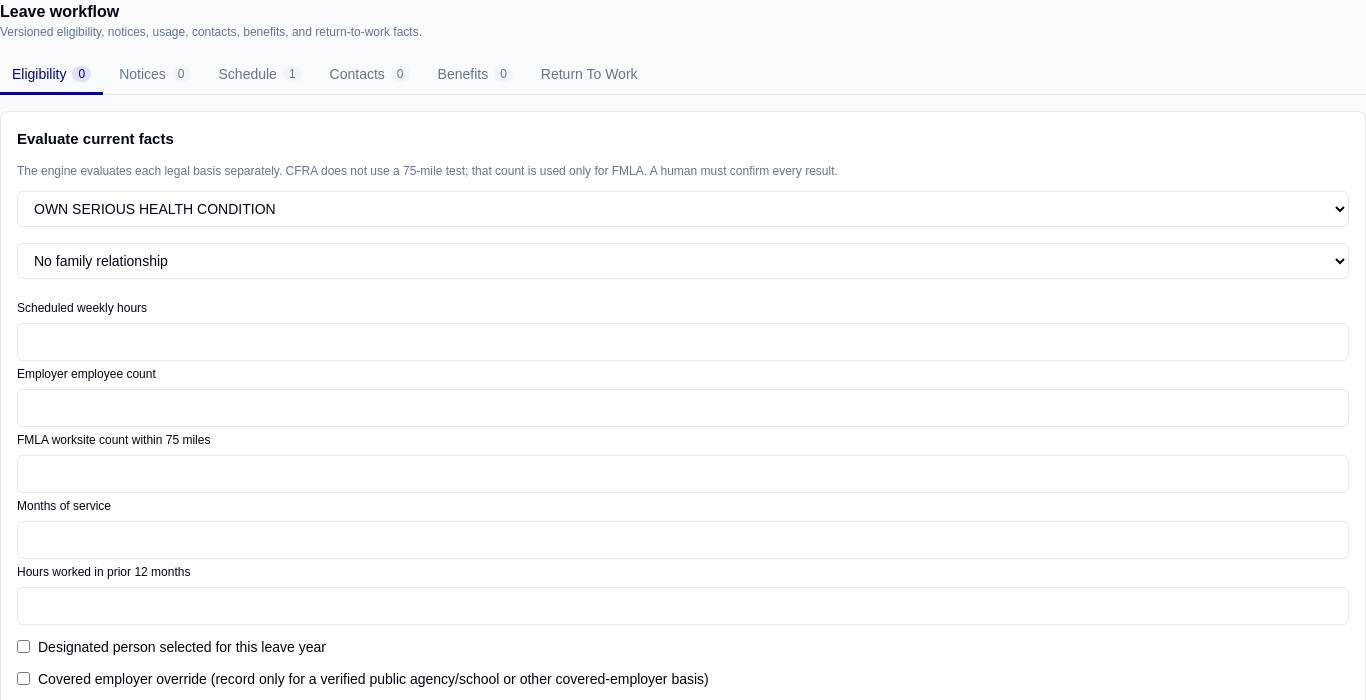
Test case: Schedule tab › shows a status server refusal and keeps the typed actual hours
Click the tab "Schedule 1".
click(260, 76)  # box x1=206 y1=56 x2=314 y2=95
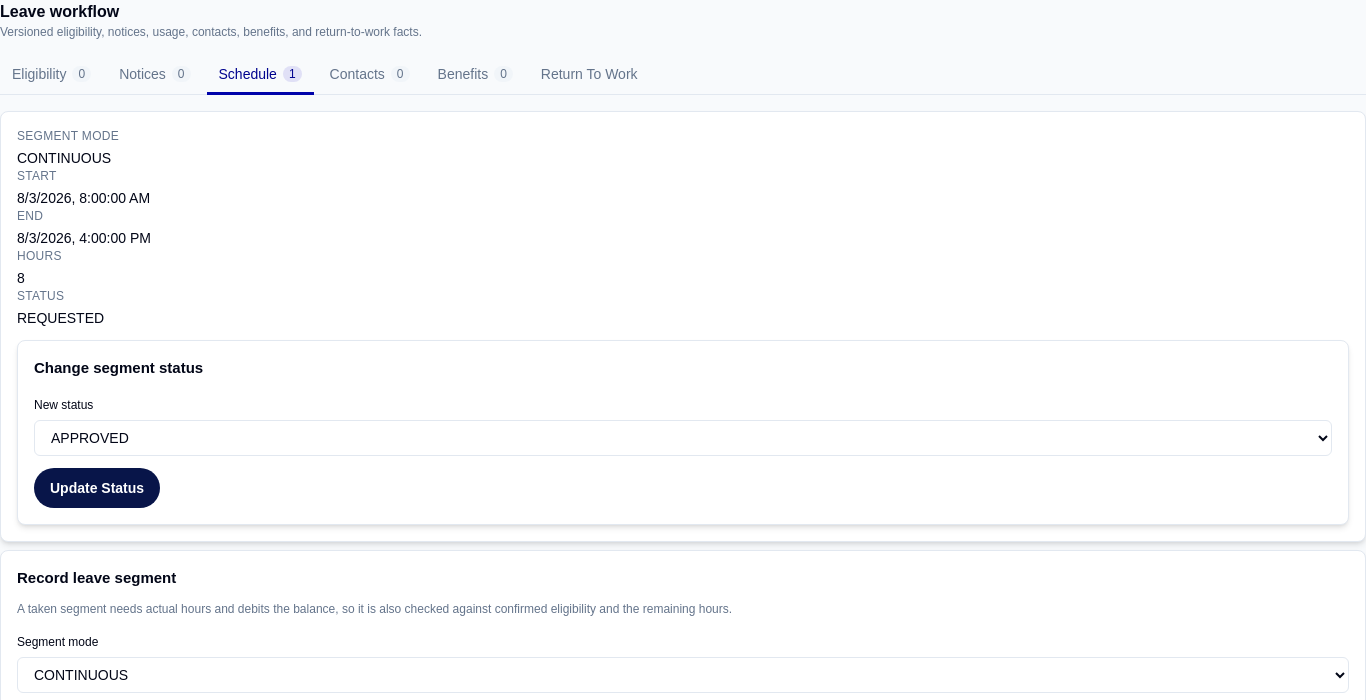
Select "TAKEN" in the dropdown labelled "New status" at {"x": 683, "y": 438}, box x1=34 y1=420 x2=1332 y2=456
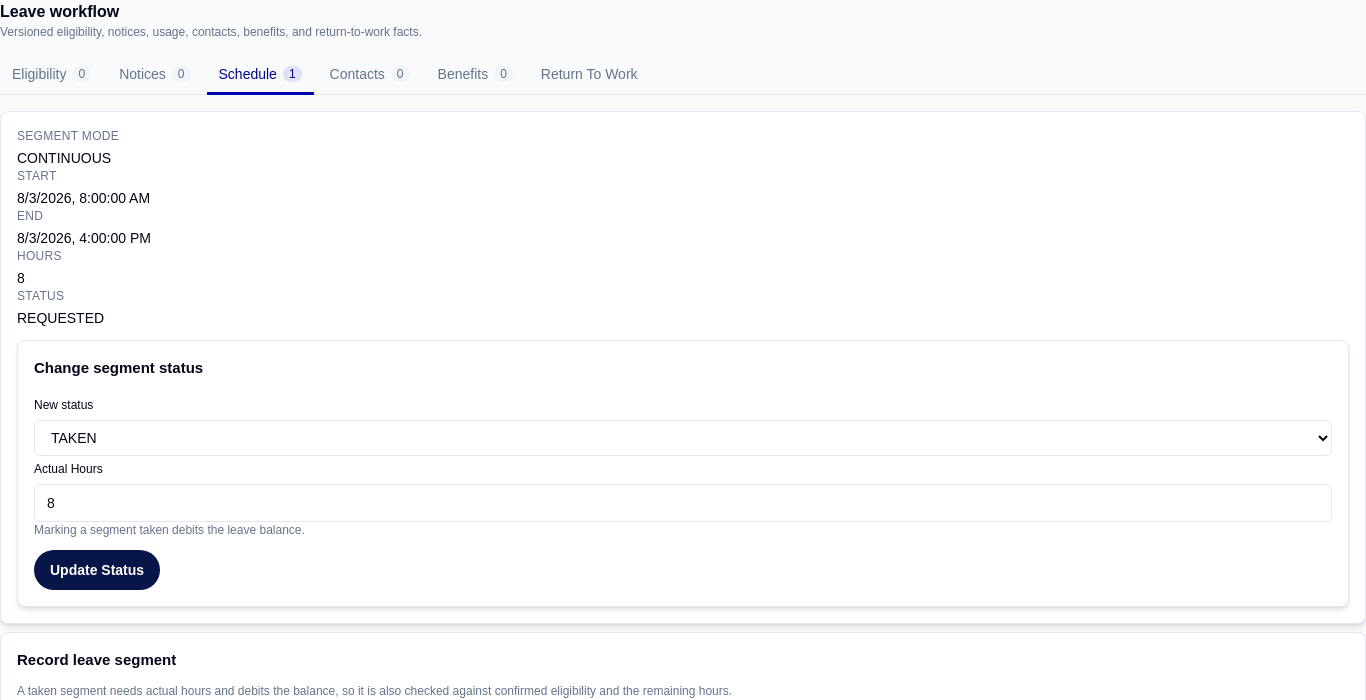
Replace the text in the number field labelled "Actual Hours" with "40" at {"x": 683, "y": 502}, box x1=34 y1=484 x2=1332 y2=522
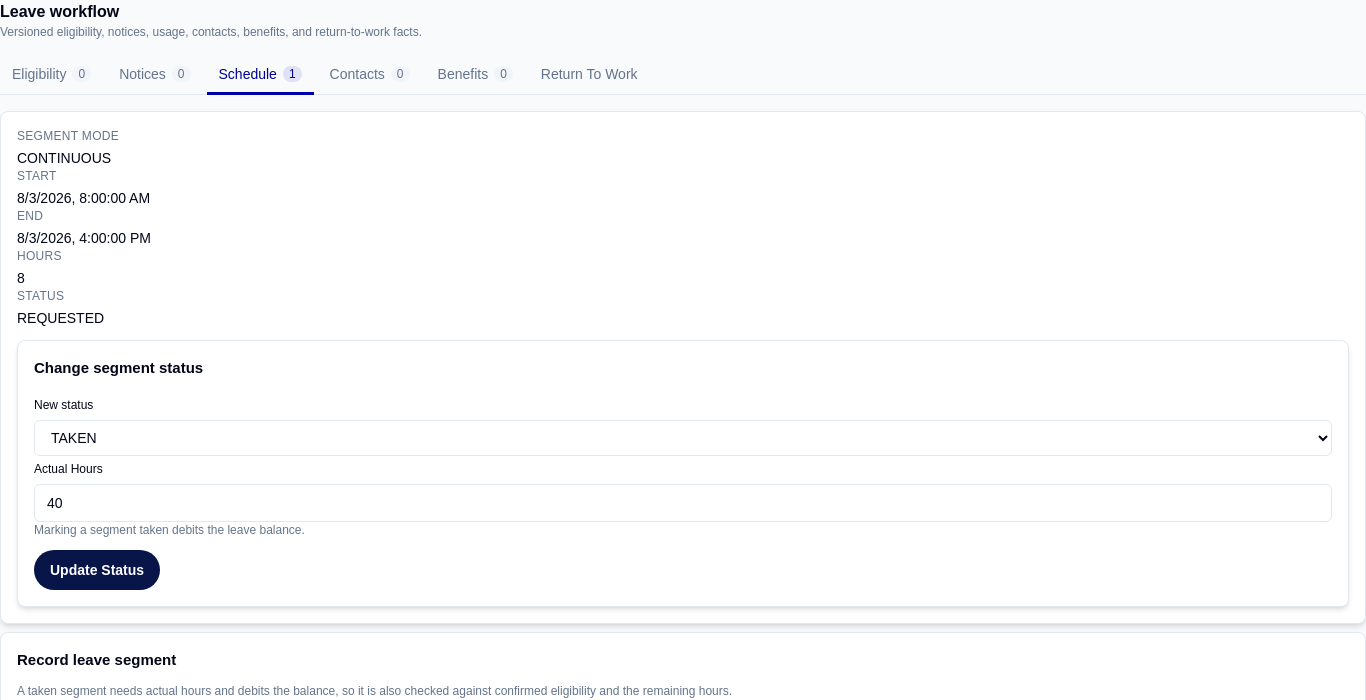
Click the button "Update Status".
click(97, 570)  # box x1=34 y1=550 x2=160 y2=590
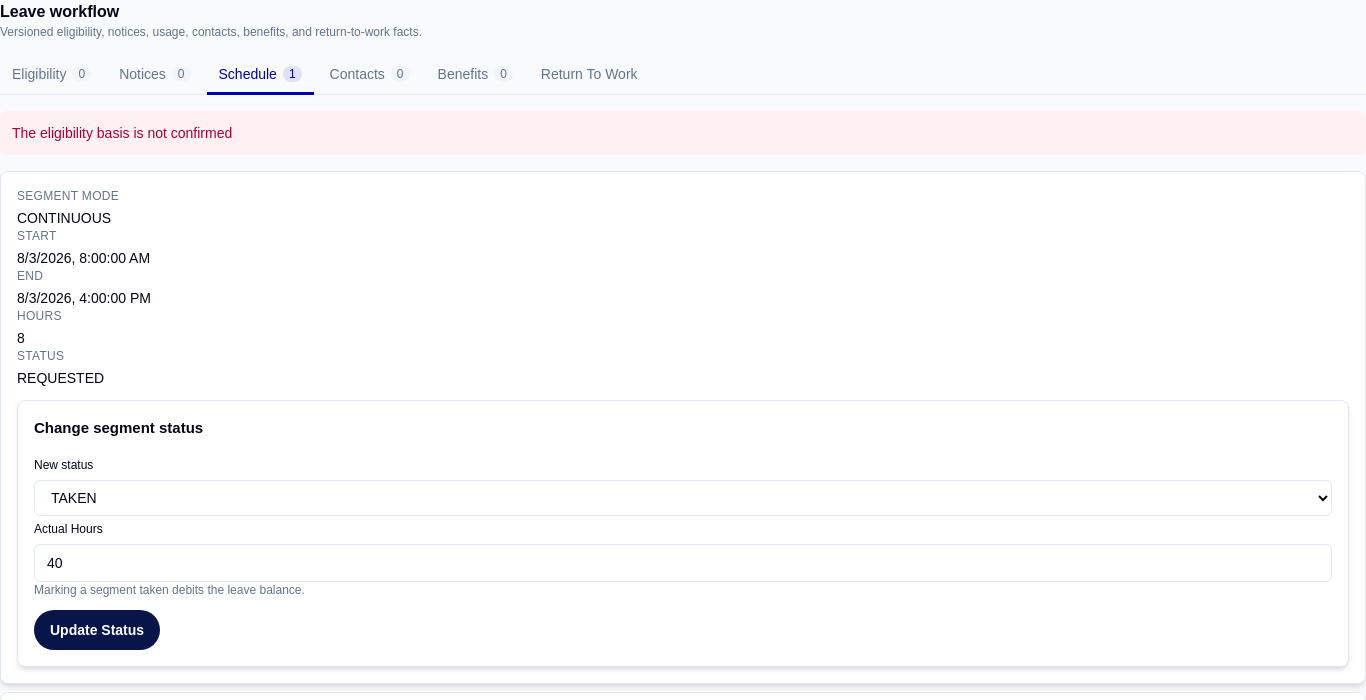
Now the text "The eligibility basis is not confirmed" is shown, box x1=0 y1=111 x2=1365 y2=155
